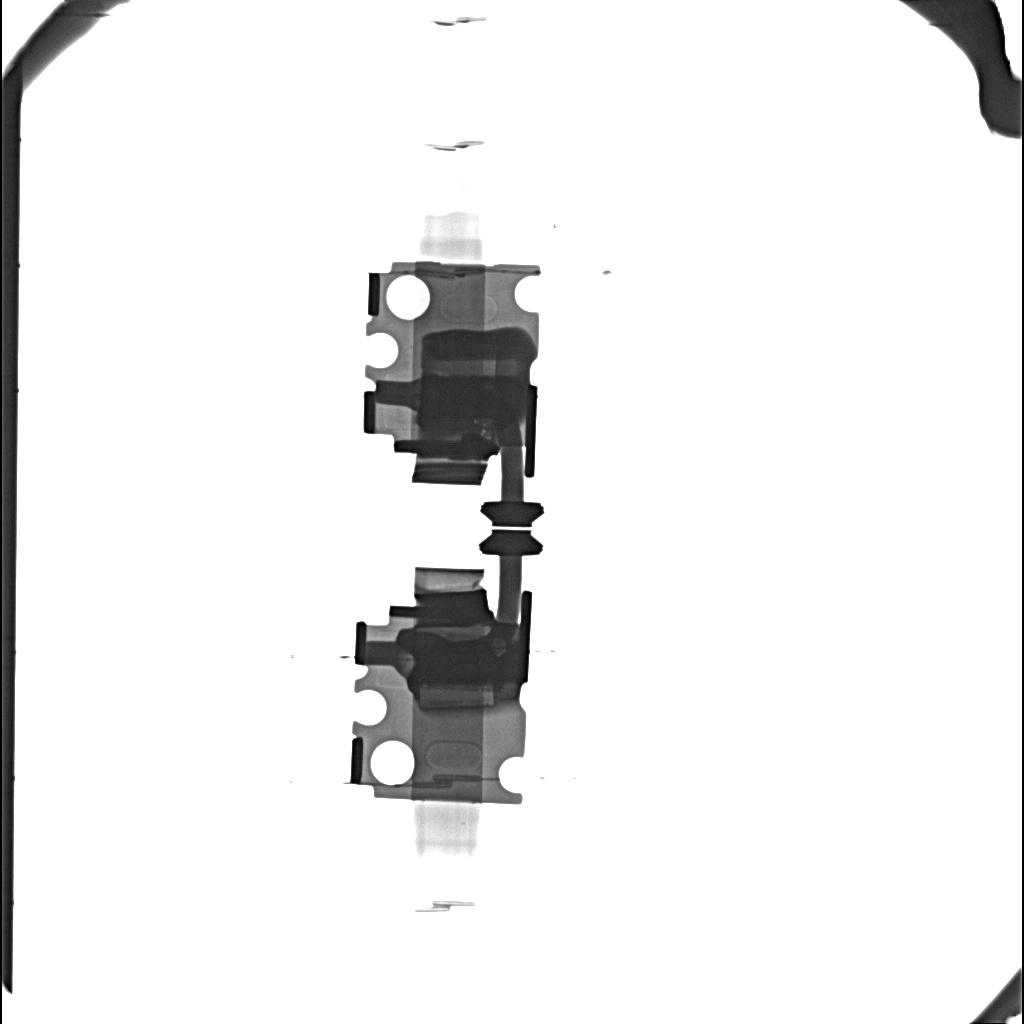PX: (421, 338, 498, 372), (417, 684, 497, 712)
SX: (403, 631, 508, 684), (420, 375, 519, 425)
